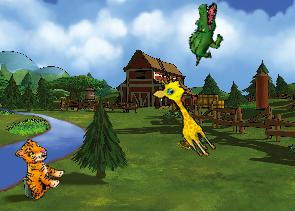crocodile: (181, 0, 228, 66)
giraffe: (148, 71, 226, 161)
tiger: (1, 135, 71, 204)
